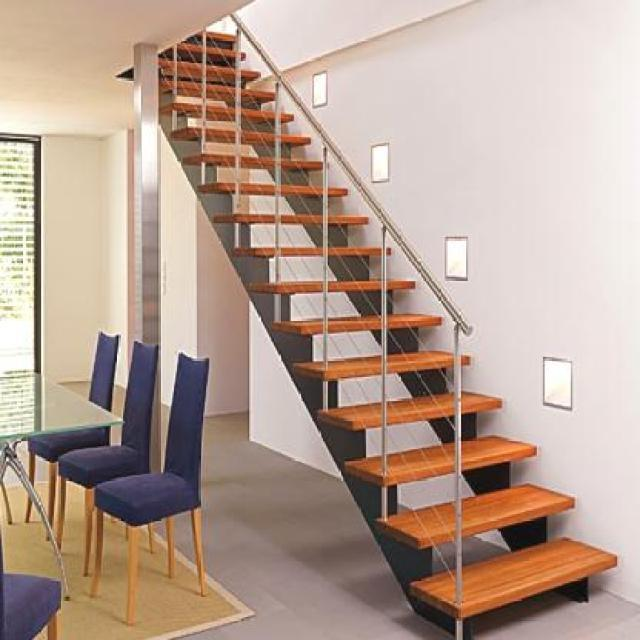stair: (121, 0, 623, 638)
